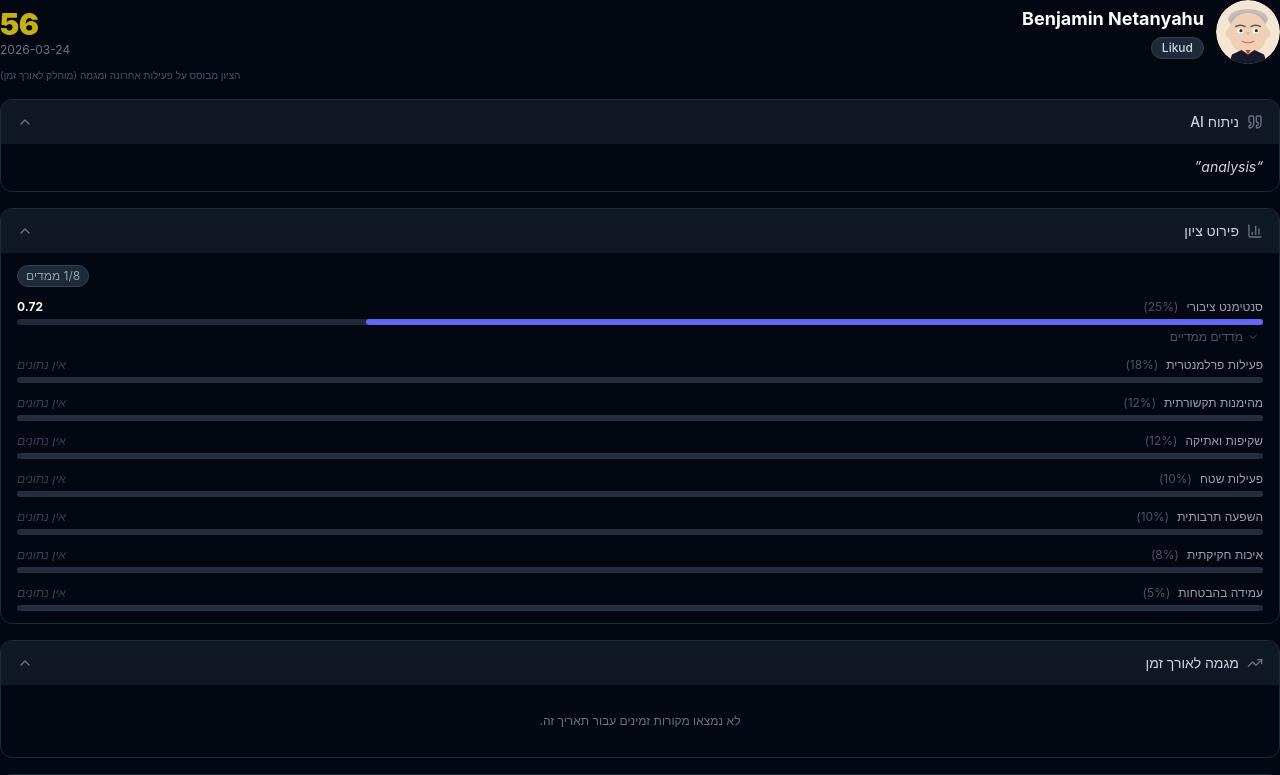
it: DetailView dimension section (merged Score Breakdown) › expands dim_public_sentiment to show 3 sub-metric bars
Expected: the text "עוינות" is not shown
# Click the expand button
What coordinates should you click on to do the following:
click the button with aria-label "פרט"
I would click on:
 (1214, 337)
Its box is [1170,329,1259,345].
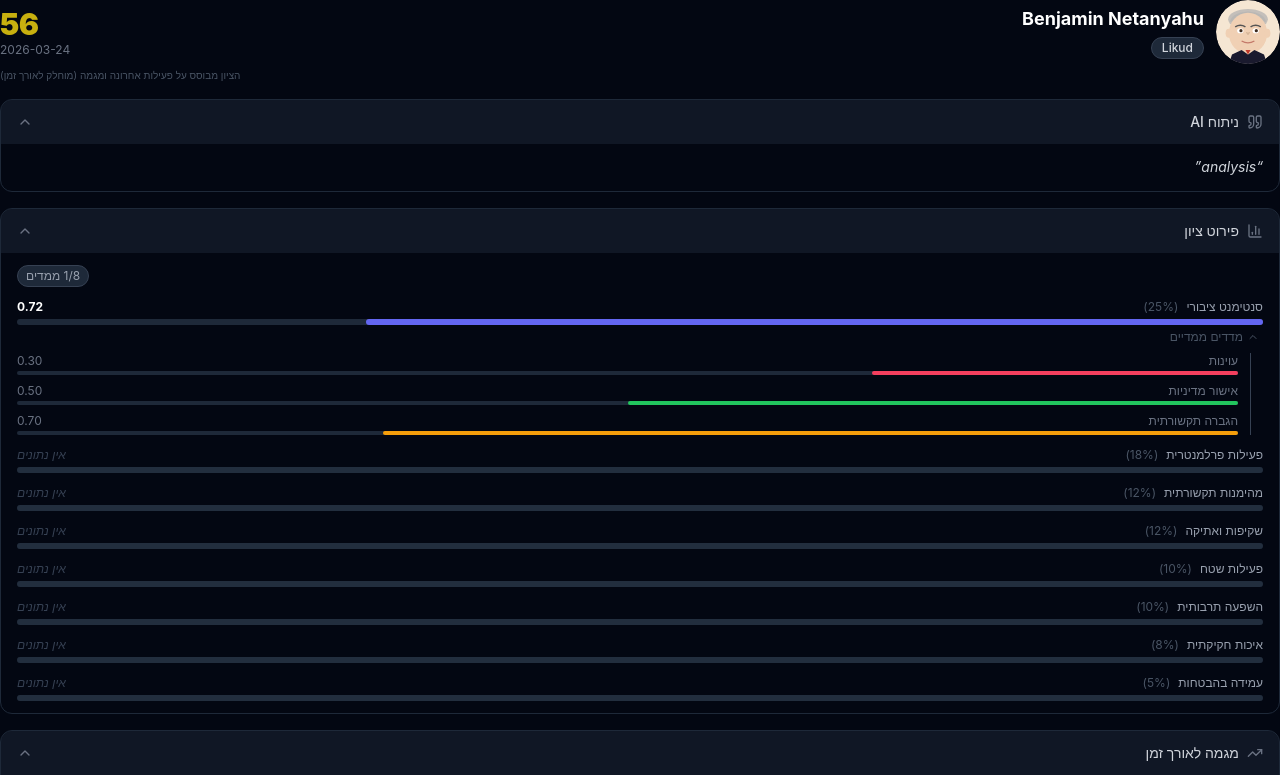
Result: the text "עוינות" is shown at [1209,353,1238,369]
Result: the text "אישור מדיניות" is shown at [1168,383,1238,399]
Result: the text "הגברה תקשורתית" is shown at [1149,413,1238,429]
